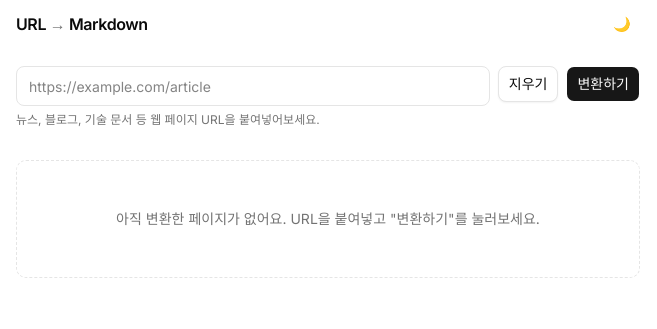
Test: Home › resets everything when clearing
This screenshot has width=657, height=329.
Type "https://example.com/a" into the field named "웹 페이지 URL".
click(253, 86); type("https://example.com/a")  # box x1=16 y1=66 x2=490 y2=106
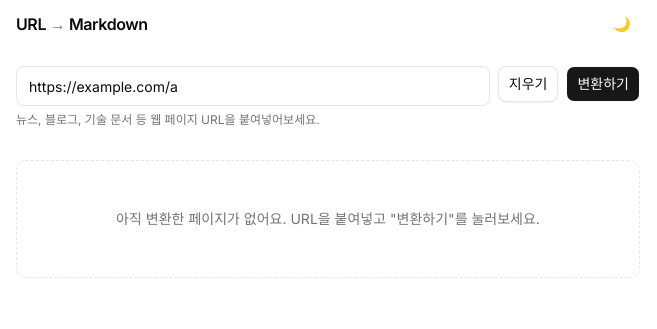
Click the button "변환하기".
click(603, 84)  # box x1=566 y1=66 x2=640 y2=102
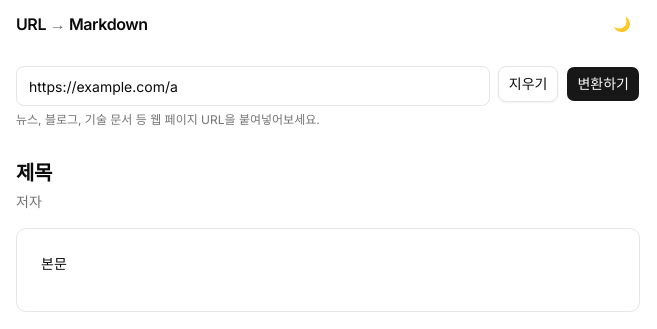
Check: the heading "제목" is shown, box x1=16 y1=161 x2=52 y2=185
Click the button "지우기".
click(528, 84)  # box x1=498 y1=66 x2=558 y2=102
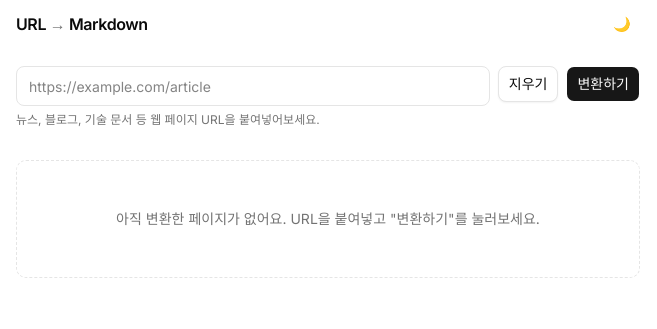
Check: the field named "웹 페이지 URL" is empty, box x1=16 y1=66 x2=490 y2=106
Check: the heading "제목" is gone
